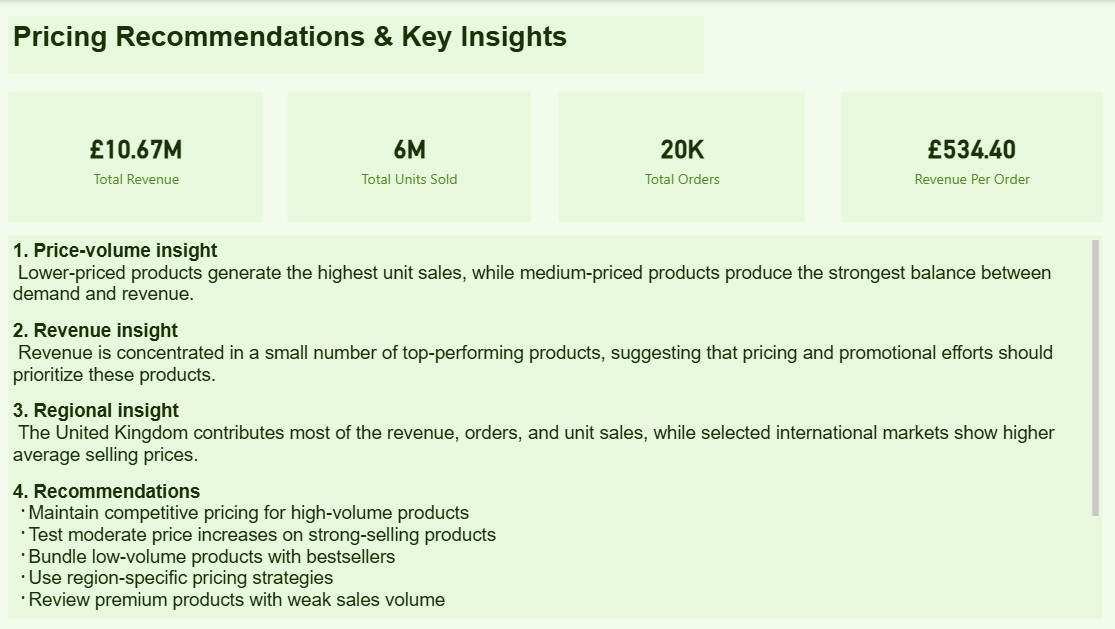

What the dashboard file says about the page in this screenshot:
{"tool":"powerbi","page":{"name":"Pricing Recommendations & Key Insights","canvas":[1280,720],"ordinal":4},"visuals":[{"type":"textbox","box":[10.6,18.3,795.6,65.4],"z":0},{"type":"textbox","box":[10.6,269.3,1252,438.1],"z":1000},{"type":"card","fields":{"Values":["Online Retail.Total Revenue"]},"box":[10.6,105,292.1,149.1],"z":2000},{"type":"card","fields":{"Values":["Online Retail.Total Orders"]},"box":[640.5,105,281.4,149.1],"z":3000},{"type":"card","fields":{"Values":["Online Retail.Total Units Sold"]},"box":[330.1,105,278.4,149.1],"z":4000},{"type":"card","fields":{"Values":["Online Retail.Revenue Per Order"]},"box":[963,105,299.7,149.1],"z":5000}]}

Visuals, with their boxes in screenshot pixels (x1, y1, x2, y2), scaled from the page's 1280x720 canvas onto the 1115x629 screenshot:
textbox: (left=9, top=16, right=702, bottom=73)
textbox: (left=9, top=235, right=1100, bottom=618)
card - Online Retail.Total Revenue: (left=9, top=92, right=264, bottom=222)
card - Online Retail.Total Orders: (left=558, top=92, right=803, bottom=222)
card - Online Retail.Total Units Sold: (left=288, top=92, right=530, bottom=222)
card - Online Retail.Revenue Per Order: (left=839, top=92, right=1100, bottom=222)
